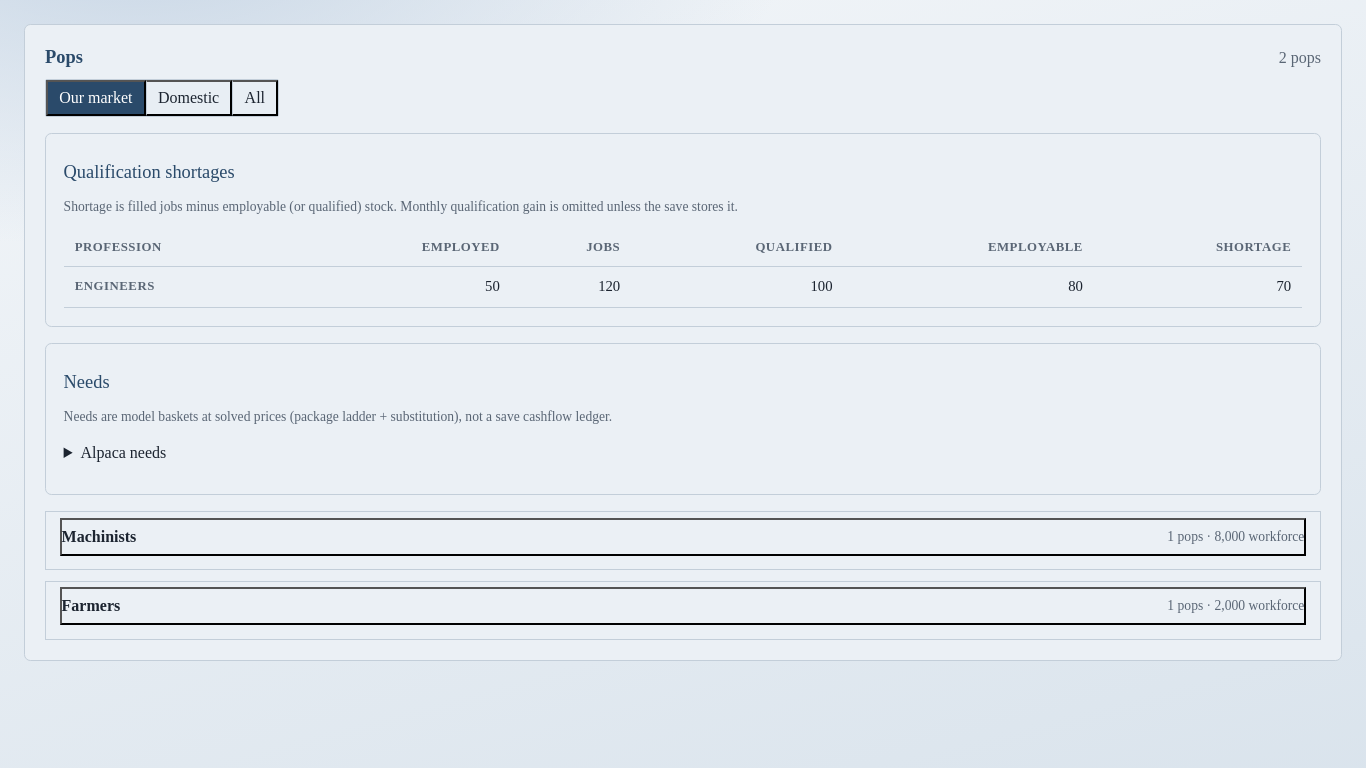
PopsPane › expands a profession group to show a pop and state link
Check: the text "North German" is not shown
Click the button "Machinists 1 pops · 8,000 workforce" at (99, 536), box [60, 518, 1306, 556]
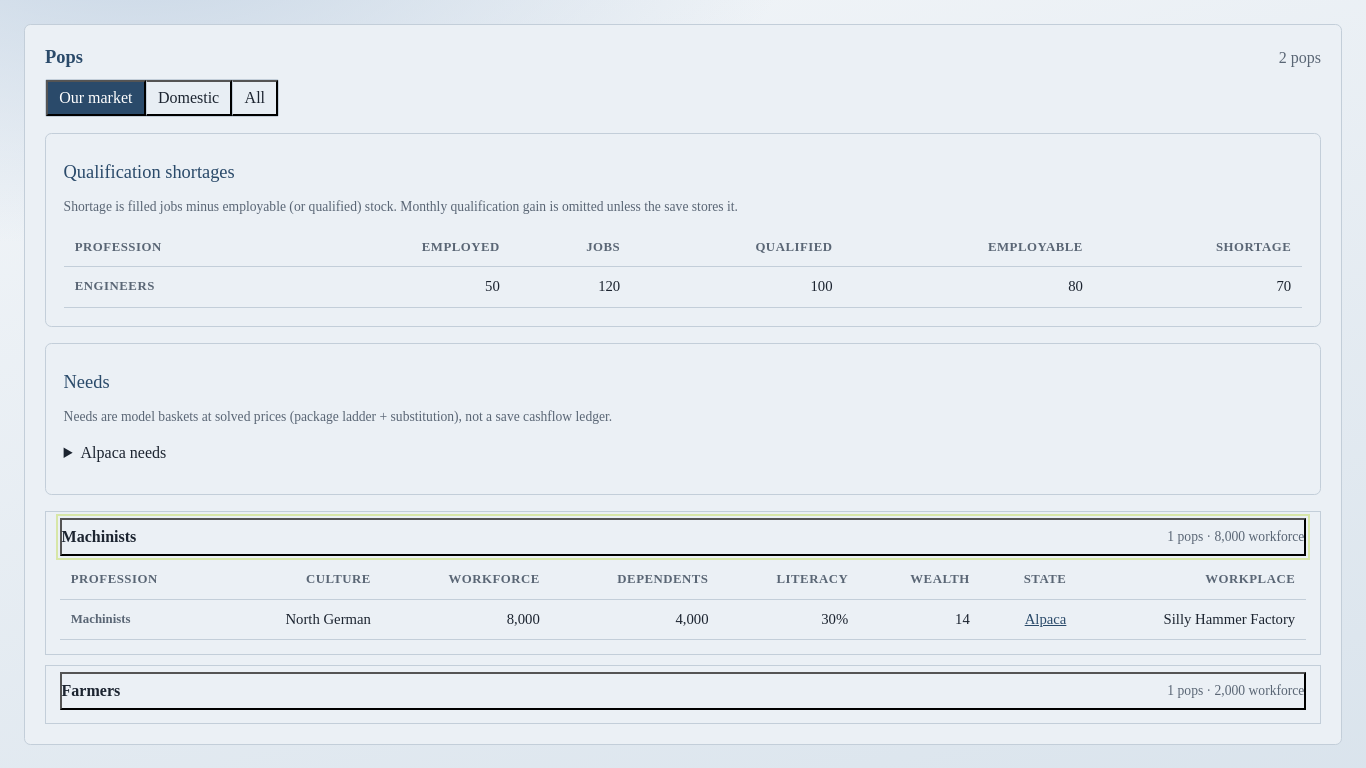
Check: the text "North German" is shown, box [222, 599, 382, 640]
